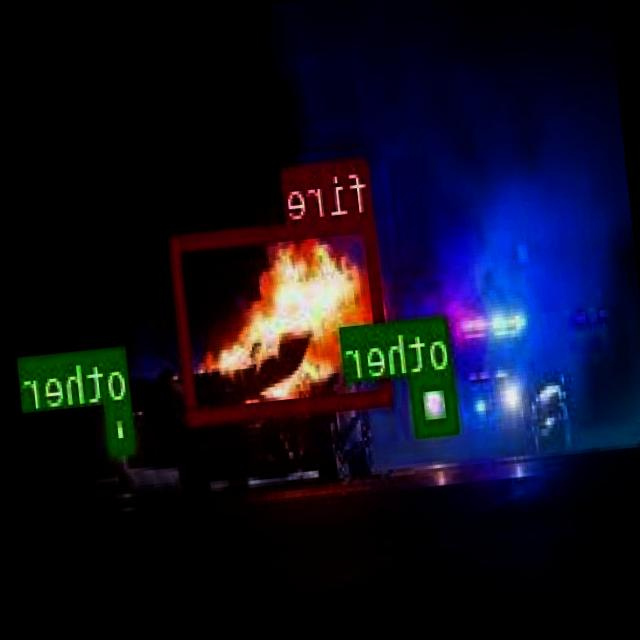fire: (171, 214, 393, 420)
